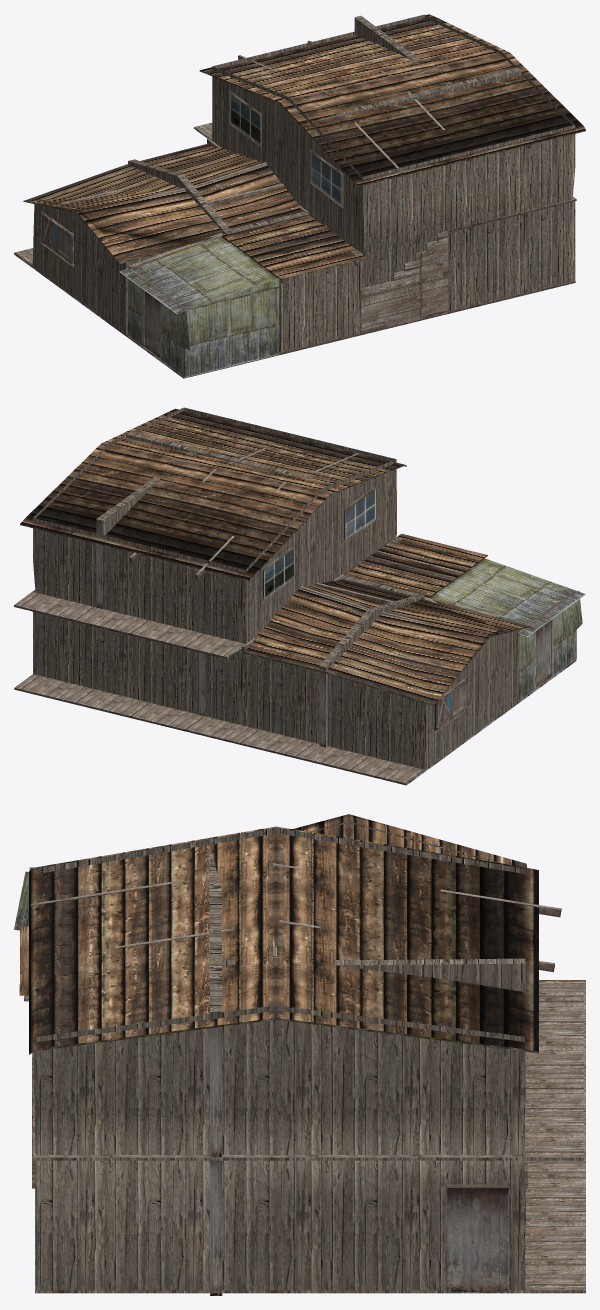
Rendered from CasaInterior.FBX.
3 views of the same model, one above another, from view 1: azimuth 30°, elevation 25°; view 2: azimuth 150°, elevation 25°; view 3: azimuth 270°, elevation 25° (orthographic). The views are drawn at different scales.
Visible parts, largest first — view 1: CasaMain, Techo1, Techo2, Bodega, UTypeStair001, Ventanas2-1, Piso1, Pared2Eje, Pared1Taller, Ventana1-2, Pared2Sep, Puerta010 (+1 smaller); view 2: CasaMain, Techo1, Techo2, Piso1, Bodega, Piso2, Ventanas2-1, Pared1Taller, Pared2Sep, Pared2Eje, Ventana1-2, Puerta010; view 3: CasaMain, Techo1, Piso2, Piso1, Techo2, Pared2Sep, Pared2Eje, Pared1Centro.
Boxes of the visible parts, <box> form: CasaMain: <box>32,14,575,352</box>; Techo1: <box>199,14,585,186</box>; Techo2: <box>23,144,367,279</box>; Bodega: <box>119,237,279,377</box>; UTypeStair001: <box>360,231,448,333</box>; Ventanas2-1: <box>229,90,343,208</box>; Piso1: <box>14,248,575,378</box>; Pared2Eje: <box>313,67,521,121</box>; Pared1Taller: <box>128,159,230,232</box>; Ventana1-2: <box>41,210,73,267</box>; Pared2Sep: <box>354,15,453,85</box>; Puerta010: <box>144,291,159,357</box>; CasaMain: <box>32,407,518,769</box>; Techo1: <box>20,408,406,580</box>; Techo2: <box>242,533,530,705</box>; Piso1: <box>14,659,576,785</box>; Bodega: <box>429,558,585,700</box>; Piso2: <box>14,572,264,658</box>; Ventanas2-1: <box>262,485,376,601</box>; Pared1Taller: <box>319,595,421,747</box>; Pared2Sep: <box>96,451,195,608</box>; Pared2Eje: <box>126,431,342,573</box>; Ventana1-2: <box>434,677,466,733</box>; Puerta010: <box>536,620,550,686</box>; CasaMain: <box>33,821,527,1291</box>; Techo1: <box>29,826,538,1054</box>; Piso2: <box>33,989,584,1160</box>; Piso1: <box>35,980,585,1293</box>; Techo2: <box>19,814,526,995</box>; Pared2Sep: <box>222,958,525,1106</box>; Pared2Eje: <box>209,846,222,1156</box>; Pared1Centro: <box>210,1160,222,1295</box>.
Size of the model in its own units: 495 by 213 by 368.
